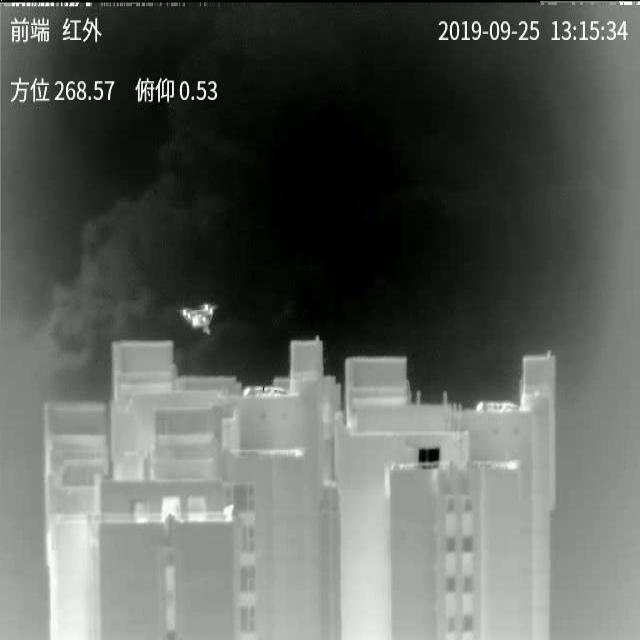drone: (180, 303, 218, 335)
